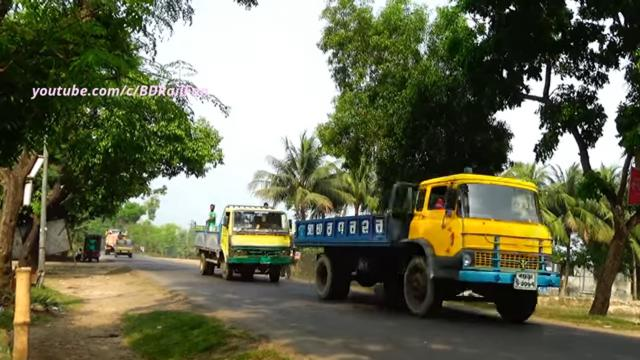truck: (291, 162, 556, 327), (192, 198, 291, 287), (111, 233, 135, 260)
